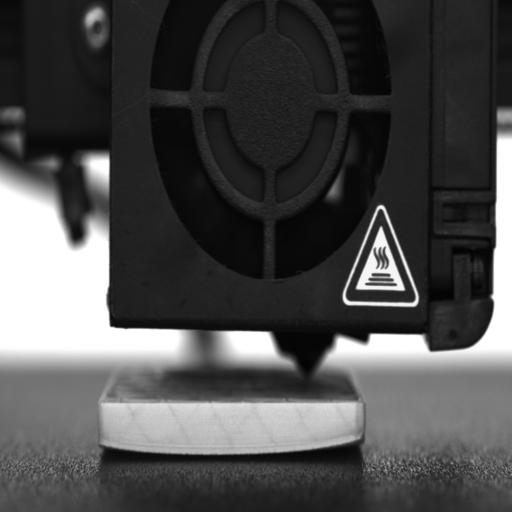warp: (310, 426, 370, 458), (96, 432, 154, 460)
